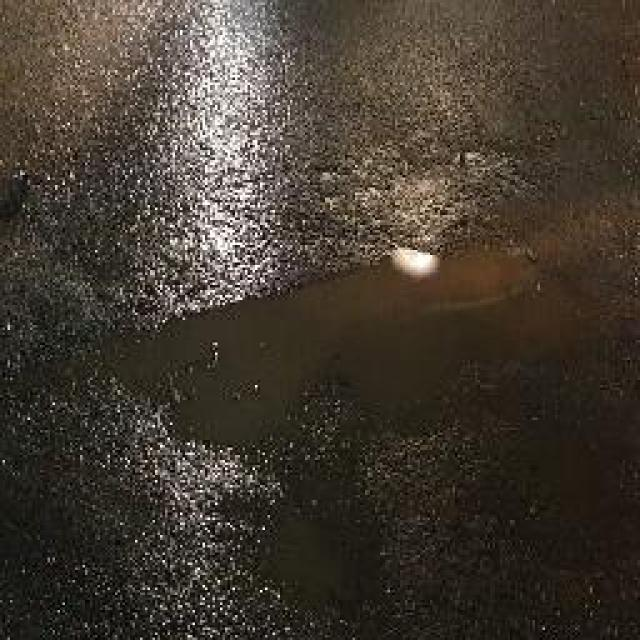puddle: (103, 245, 593, 437)
